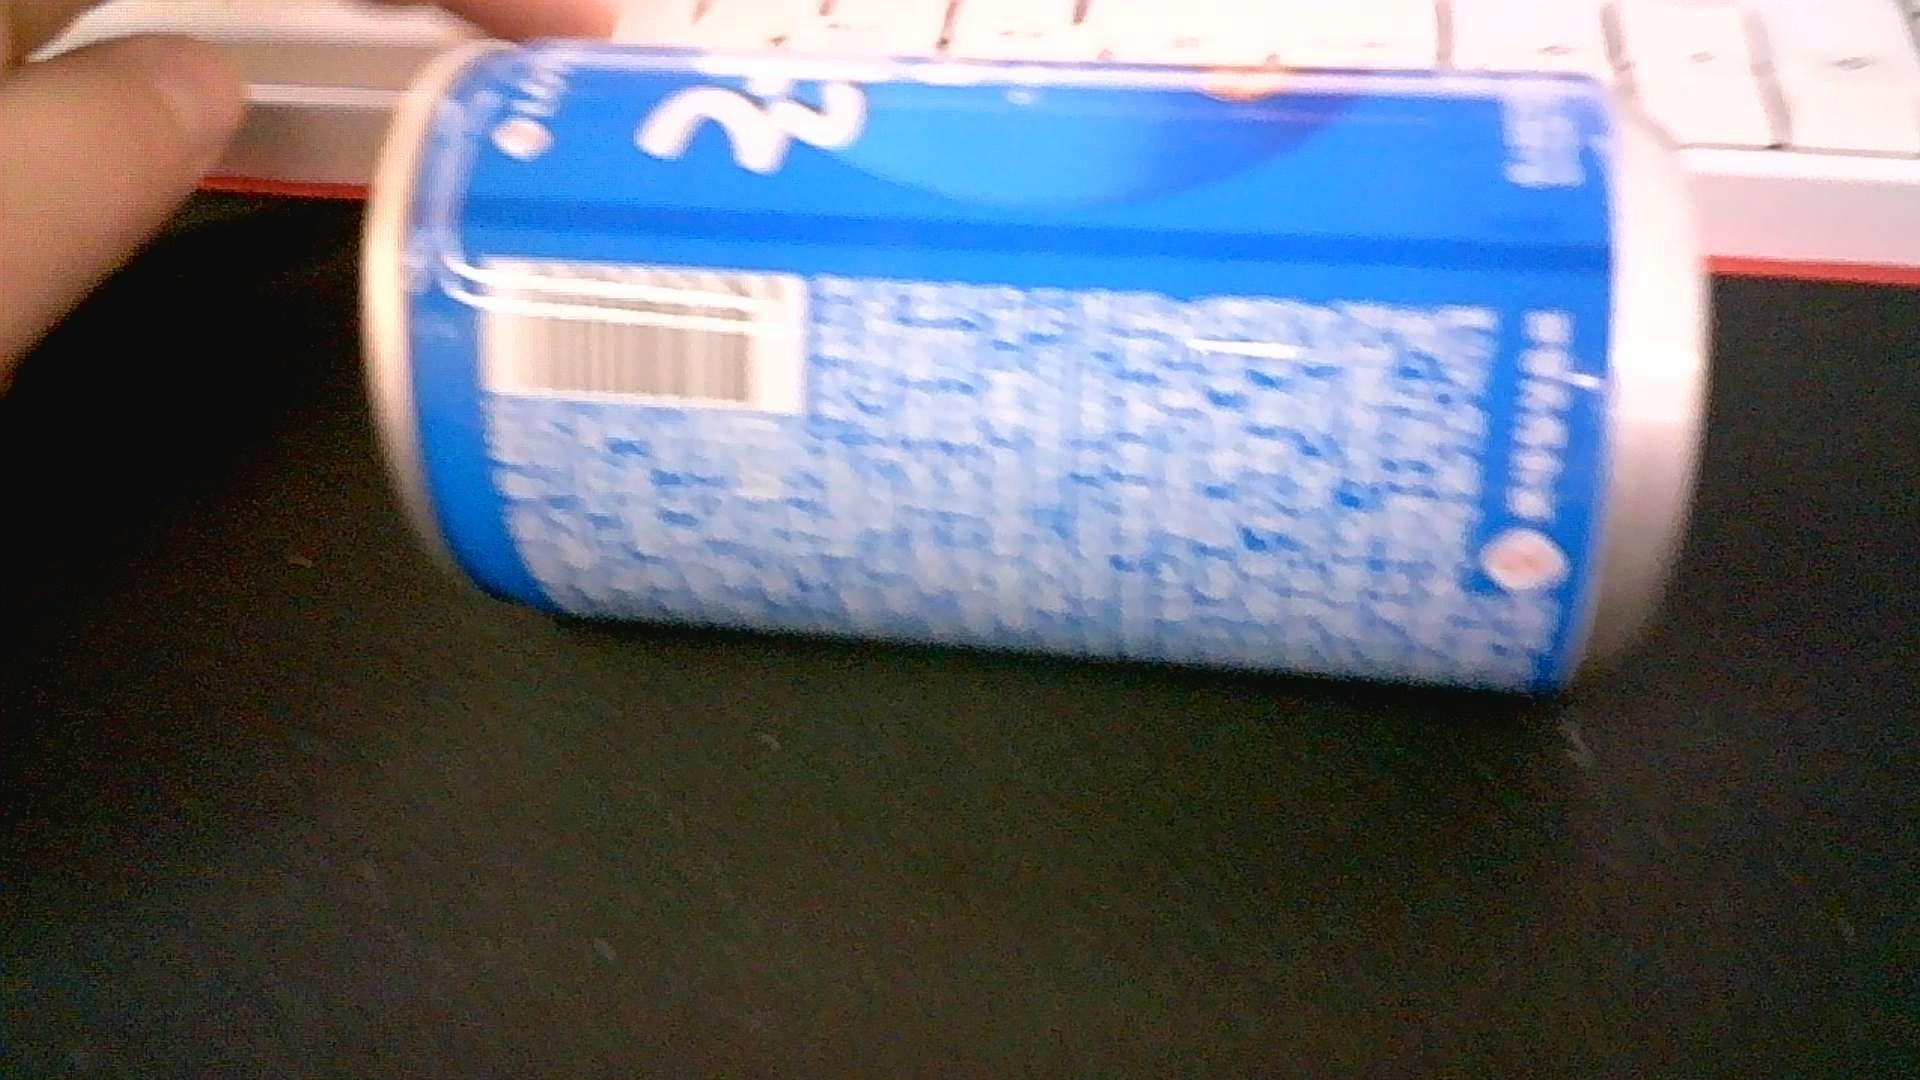letsbe: (361, 40, 1716, 690)
